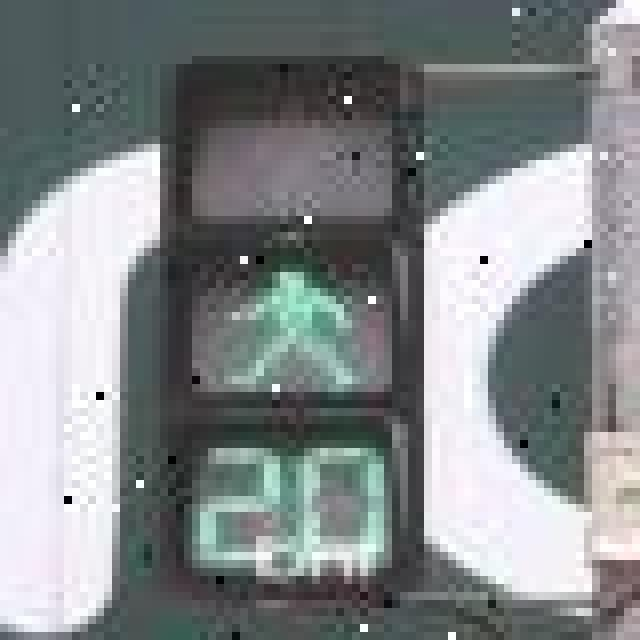greenlight: (104, 64, 432, 424)
